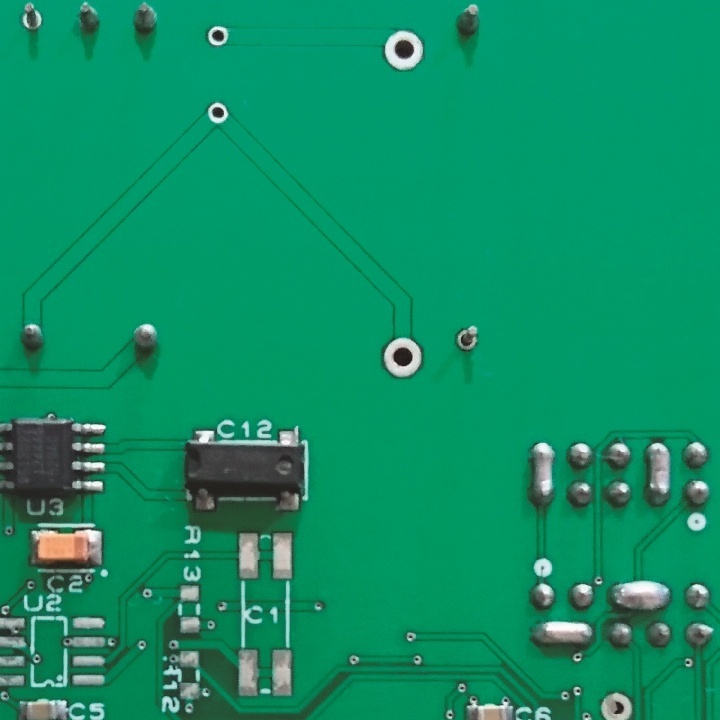F: (381, 25, 426, 75), (380, 334, 427, 380), (598, 688, 633, 720), (452, 319, 482, 353), (19, 1, 46, 38), (204, 23, 232, 50), (206, 101, 230, 124)
P: (527, 614, 596, 655), (607, 576, 676, 613), (524, 434, 557, 508), (644, 436, 673, 510)
